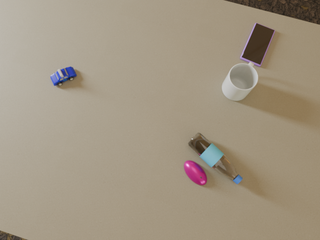bottle: (188, 133, 242, 184)
cup: (222, 62, 258, 101)
mouse: (184, 160, 207, 185)
phone: (240, 23, 275, 66)
toy_car: (50, 67, 76, 86)
